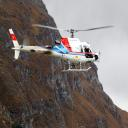helicopter: (10, 26, 116, 71)
